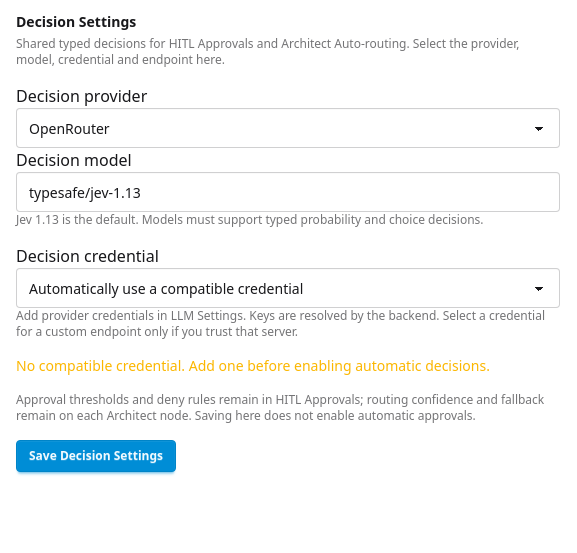
DecisionSettingsPanel › rejects invalid custom endpoints and embedded secrets before saving
The width and height of the screenshot is (577, 553).
Select "Custom / local Decisions API" in the dropdown labelled "Decision provider" at coordinates (288, 128), box [16,108,560,148]
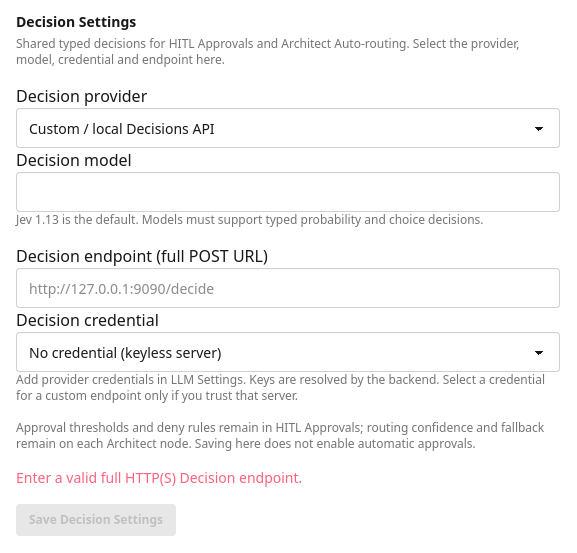
Type "local" into the field labelled "Decision model" at coordinates (288, 192), box [16,172,560,212]
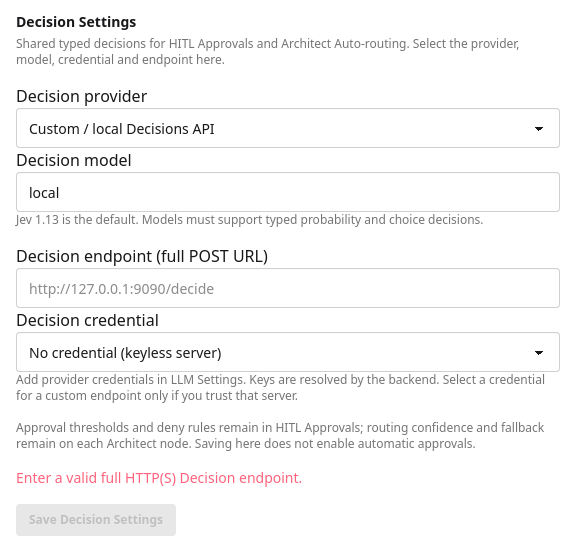
Type "file:///tmp/model" into the field labelled "Decision endpoint" at coordinates (288, 288), box [16,268,560,308]
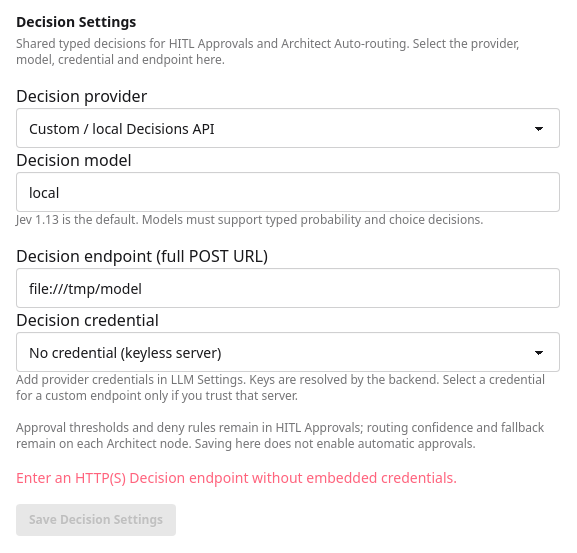
expect the button "Save Decision Settings" is disabled: met, box [16,504,176,536]
Replace the text in the field labelled "Decision endpoint" with "https://user:secret@example.test/decide" at coordinates (288, 288), box [16,268,560,308]
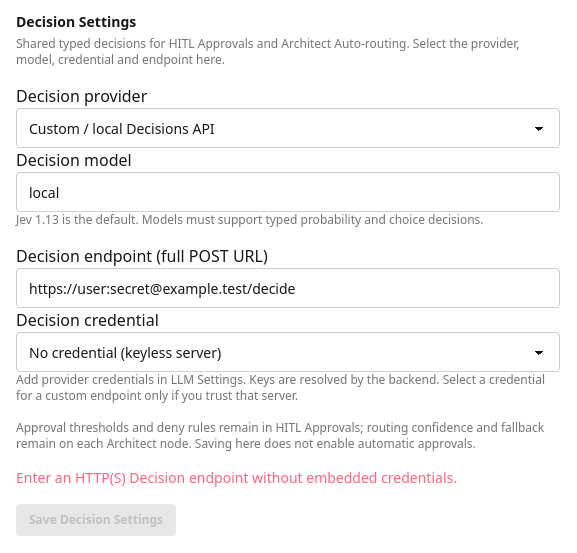
expect the button "Save Decision Settings" is disabled: met, box [16,504,176,536]
Replace the text in the field labelled "Decision endpoint" with "invalid" at coordinates (288, 288), box [16,268,560,308]
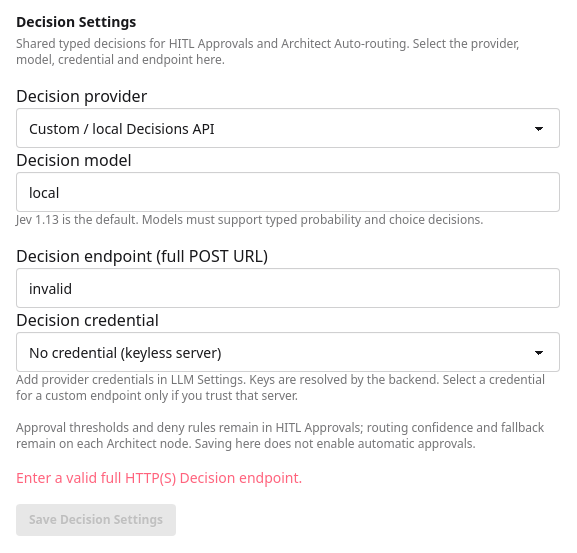
expect the button "Save Decision Settings" is disabled: met, box [16,504,176,536]
Replace the text in the field labelled "Decision endpoint" with "http://localhost:9090/decide" at coordinates (288, 288), box [16,268,560,308]
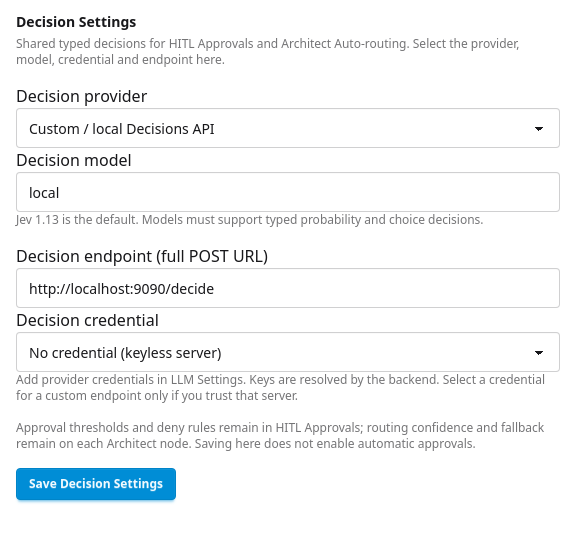
expect the button "Save Decision Settings" is enabled: met, box [16,468,176,500]
